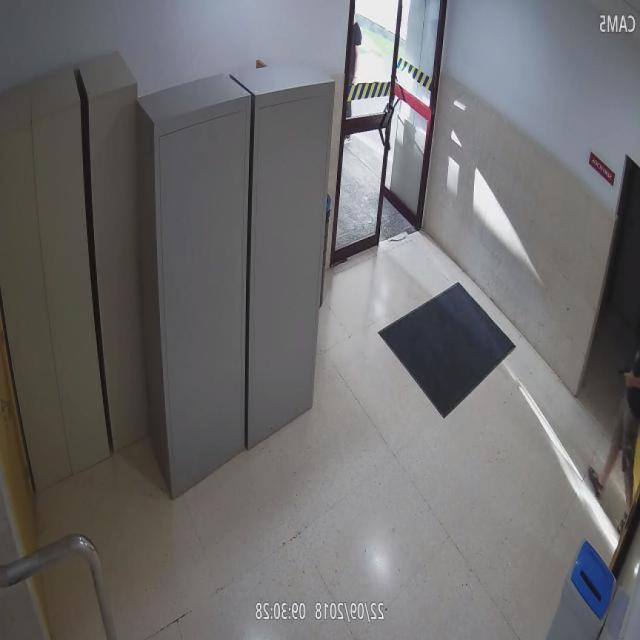pistol: (616, 364, 636, 392)
